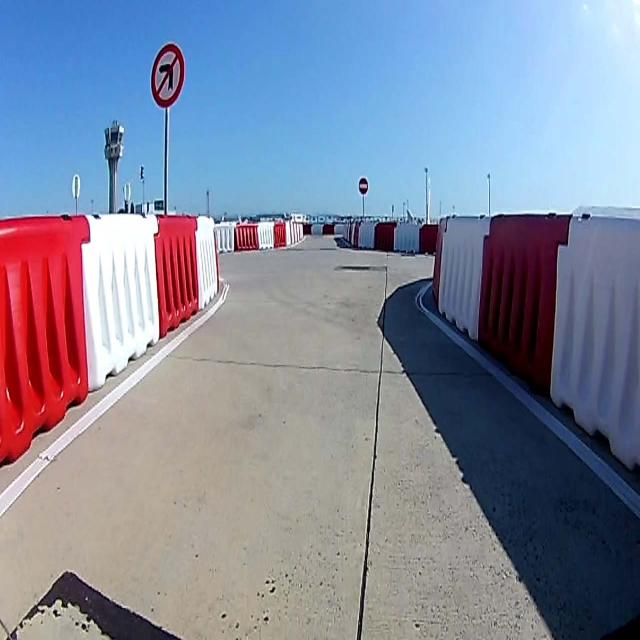girisyok: (358, 176, 368, 196)
soladonulmez: (150, 46, 186, 110)
